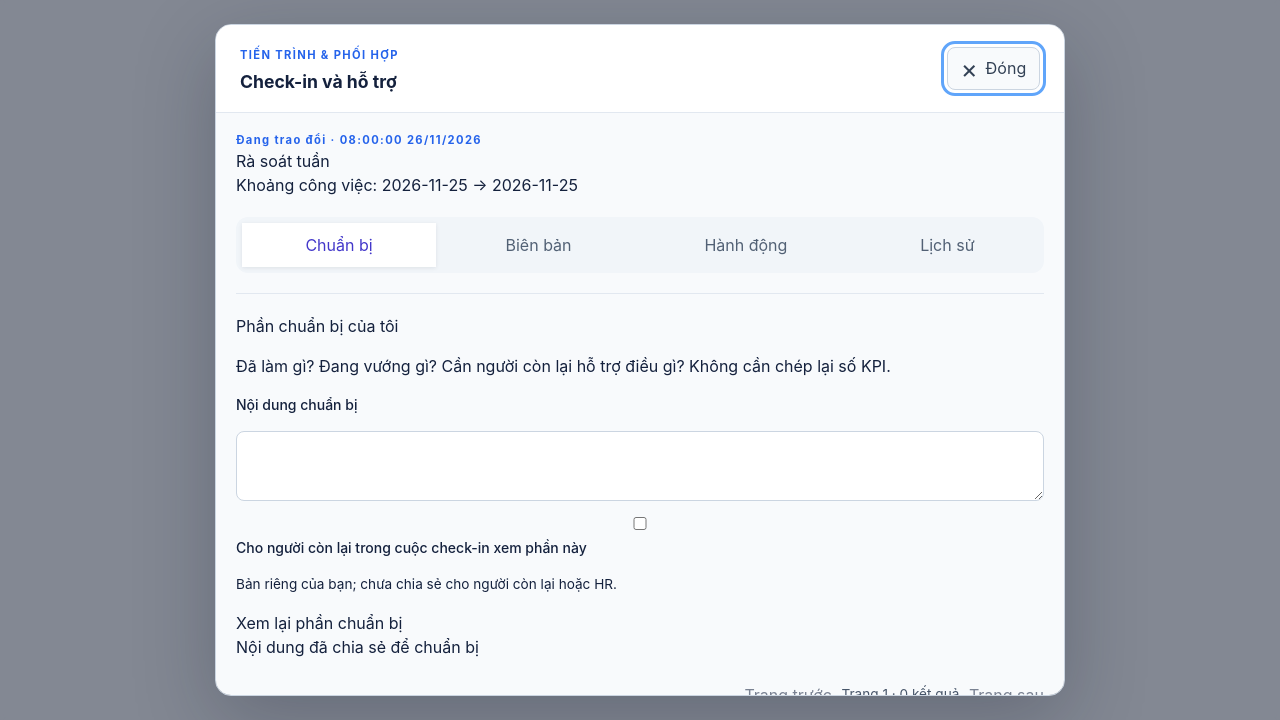
preserves an unsaved private preparation when the manager publishes during typing
In the text box labelled "Nội dung chuẩn bị": [640, 466] box [236,431,1044,501], type "Cần hỗ trợ dữ liệu, tôi chưa lưu bản này"
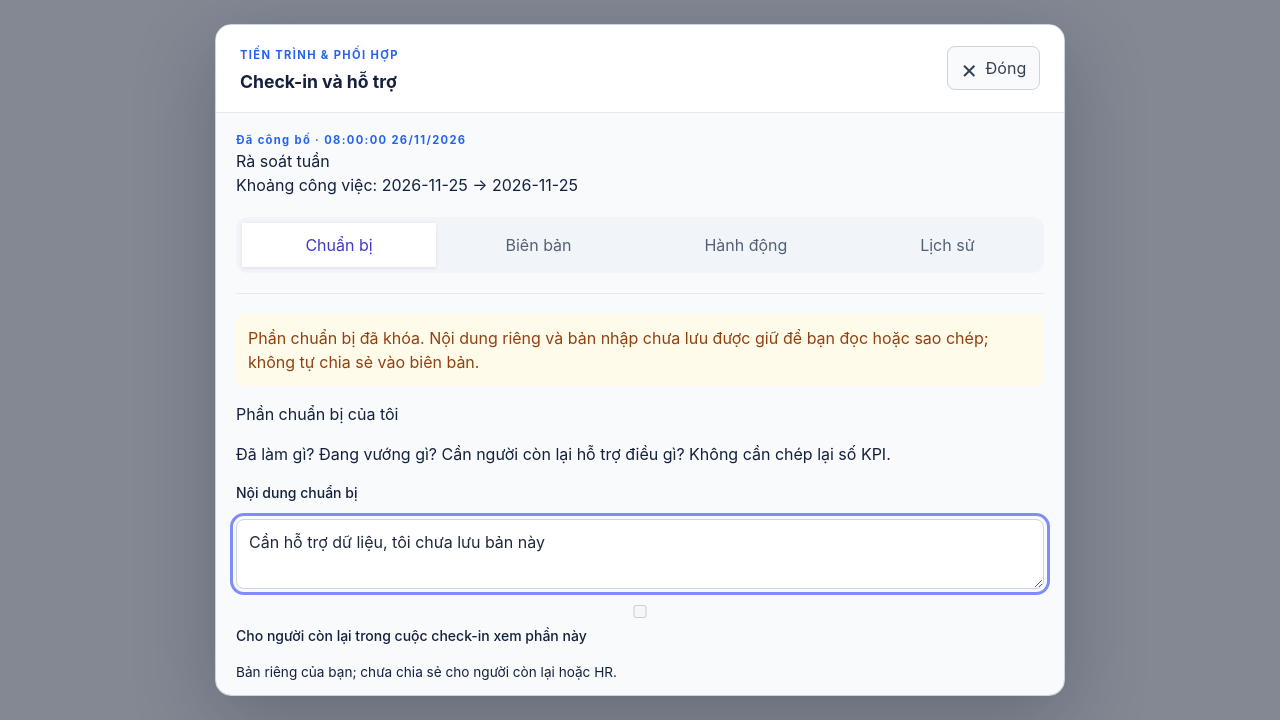
Result: the text "Phần chuẩn bị đã khóa" is shown at [248,328,988,372]
